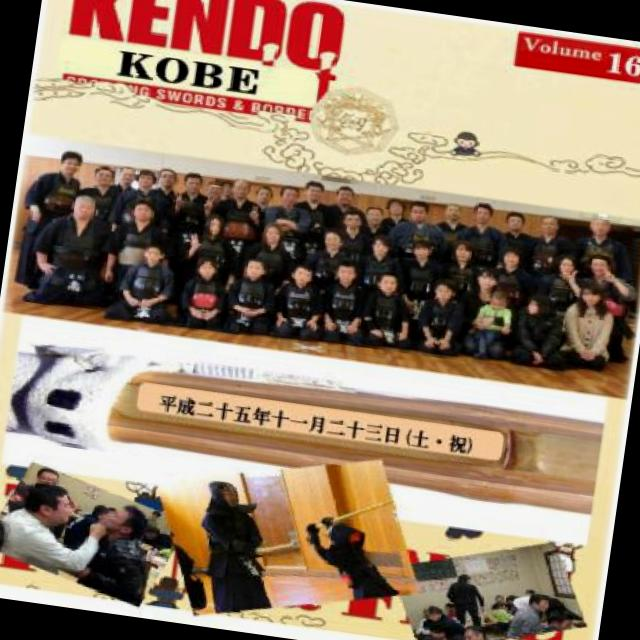Person: (9, 137, 640, 382), (0, 462, 177, 607), (178, 482, 266, 620), (417, 569, 587, 640), (297, 513, 415, 607)
